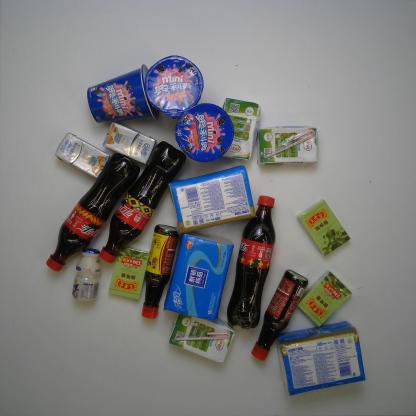Candy: (294, 270, 352, 327), (297, 198, 352, 257), (107, 245, 149, 302)
Dessert: (85, 62, 160, 125), (143, 55, 206, 119), (174, 104, 237, 164)
Drink: (46, 153, 140, 272), (98, 140, 185, 264), (225, 194, 277, 330)
Milk: (167, 312, 237, 364), (219, 98, 262, 163), (258, 123, 317, 167), (53, 133, 110, 178), (100, 122, 156, 166), (71, 248, 101, 301)
Seasoner: (251, 268, 310, 361), (141, 222, 179, 320)
Tissue: (276, 320, 368, 397), (163, 231, 236, 320), (168, 166, 256, 236)
